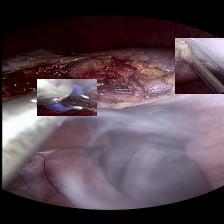Bipolar: (36, 79, 96, 116)
Grasper: (174, 38, 224, 94)
